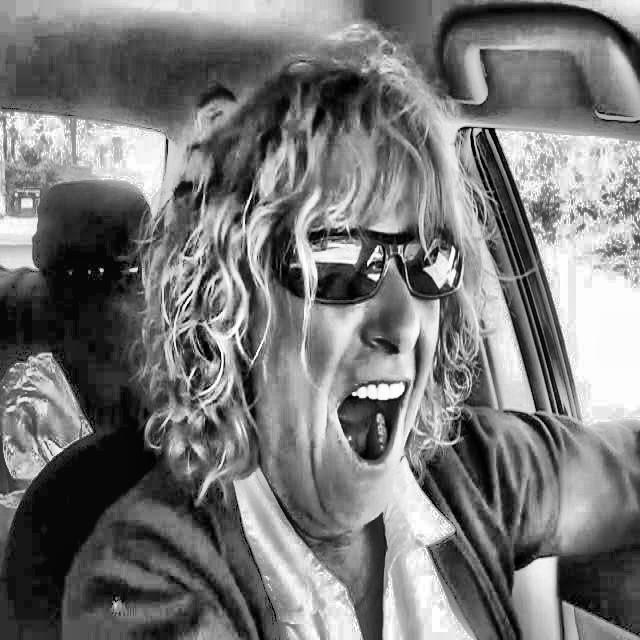open_mouth: (318, 366, 426, 481)
